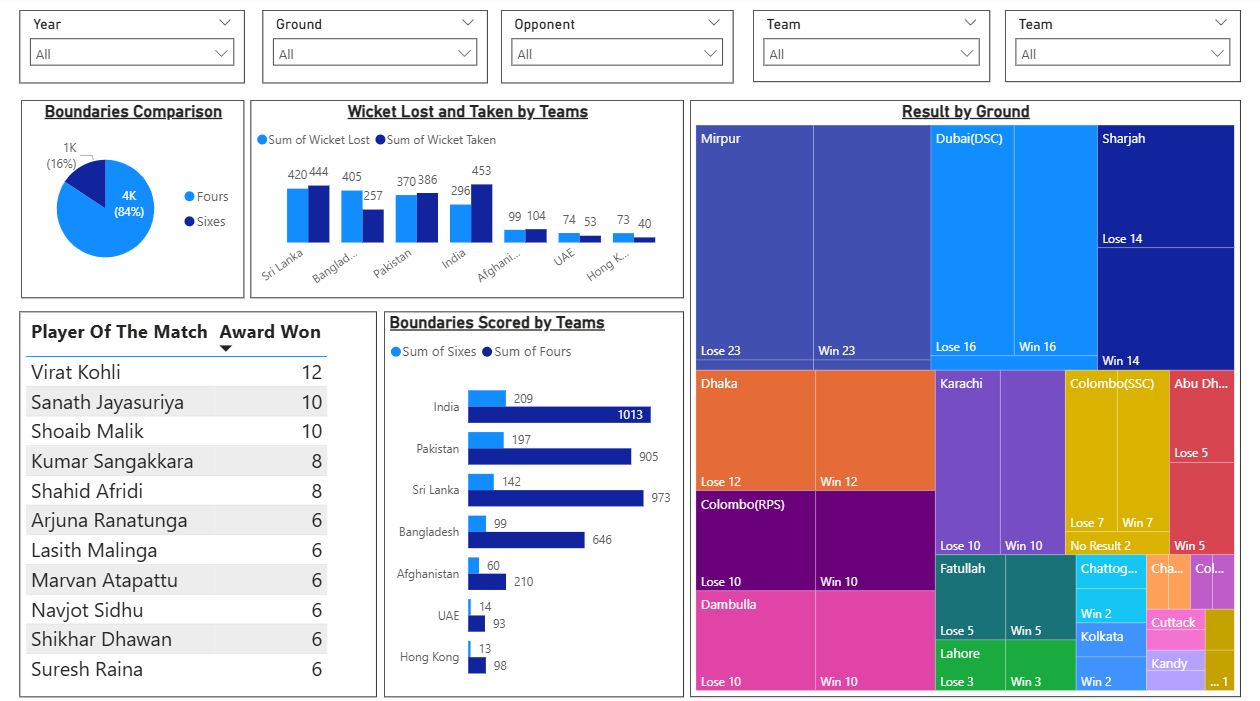

The dashboard page shown, as its layout file describes it:
{"tool":"powerbi","page":{"name":"Details","canvas":[1280,720],"ordinal":1},"visuals":[{"type":"slicer","fields":{"Values":["asiacup.Team"]},"box":[766.7,15.6,239.2,72.7],"z":0},{"type":"slicer","fields":{"Values":["asiacup.Ground"]},"box":[271.5,15.6,227.1,74.2],"z":1000},{"type":"slicer","fields":{"Values":["asiacup.Opponent"]},"box":[512.3,15.6,234.7,74.2],"z":2000},{"type":"slicer","fields":{"Values":["asiacup.Year"]},"box":[26.2,15.6,227.1,74.2],"z":3000},{"type":"slicer","fields":{"Values":["asiacup.Team"]},"box":[1021.1,15.6,237.7,72.7],"z":4000},{"type":"tableEx","fields":{"Values":["asiacup.Player Of The Match","CountNonNull(asiacup.Player Of The Match)"]},"box":[25.7,319.5,360.4,389.2],"z":5000},{"type":"treemap","title":"Result by Ground","fields":{"Group":["asiacup.Ground"],"Details":["asiacup.Result"],"Values":["CountNonNull(asiacup.Format)"]},"box":[702.6,106,555.7,602.7],"z":6000},{"type":"clusteredBarChart","title":"Boundaries Scored by Teams","fields":{"Category":["asiacup.Team"],"Y":["Sum(asiacup.Sixes)","Sum(asiacup.Fours)"]},"box":[393.7,319.5,302.8,389.2],"z":7000},{"type":"pieChart","title":"Boundaries Comparison","fields":{"Y":["Sum(asiacup.Fours)","Sum(asiacup.Sixes)"]},"box":[27.3,106,225.6,199.9],"z":8000},{"type":"clusteredColumnChart","title":"Wicket Lost and Taken by Teams","fields":{"Category":["asiacup.Team"],"Y":["Sum(asiacup.Wicket Lost)","Sum(asiacup.Wicket Taken)"]},"box":[258.9,106,437.6,199.9],"z":9000}]}

Visuals, with their boxes in screenshot pixels (x1, y1, x2, y2), scaled from the page's 1280x720 canvas onto the 1260x701 screenshot:
slicer - asiacup.Team: bbox(755, 15, 990, 86)
slicer - asiacup.Ground: bbox(267, 15, 491, 87)
slicer - asiacup.Opponent: bbox(504, 15, 735, 87)
slicer - asiacup.Year: bbox(26, 15, 249, 87)
slicer - asiacup.Team: bbox(1005, 15, 1239, 86)
tableEx - asiacup.Player Of The Match x CountNonNull(asiacup.Player Of The Match): bbox(25, 311, 380, 690)
"Result by Ground" treemap: bbox(692, 103, 1239, 690)
"Boundaries Scored by Teams" clusteredBarChart: bbox(388, 311, 686, 690)
"Boundaries Comparison" pieChart: bbox(27, 103, 249, 298)
"Wicket Lost and Taken by Teams" clusteredColumnChart: bbox(255, 103, 686, 298)
